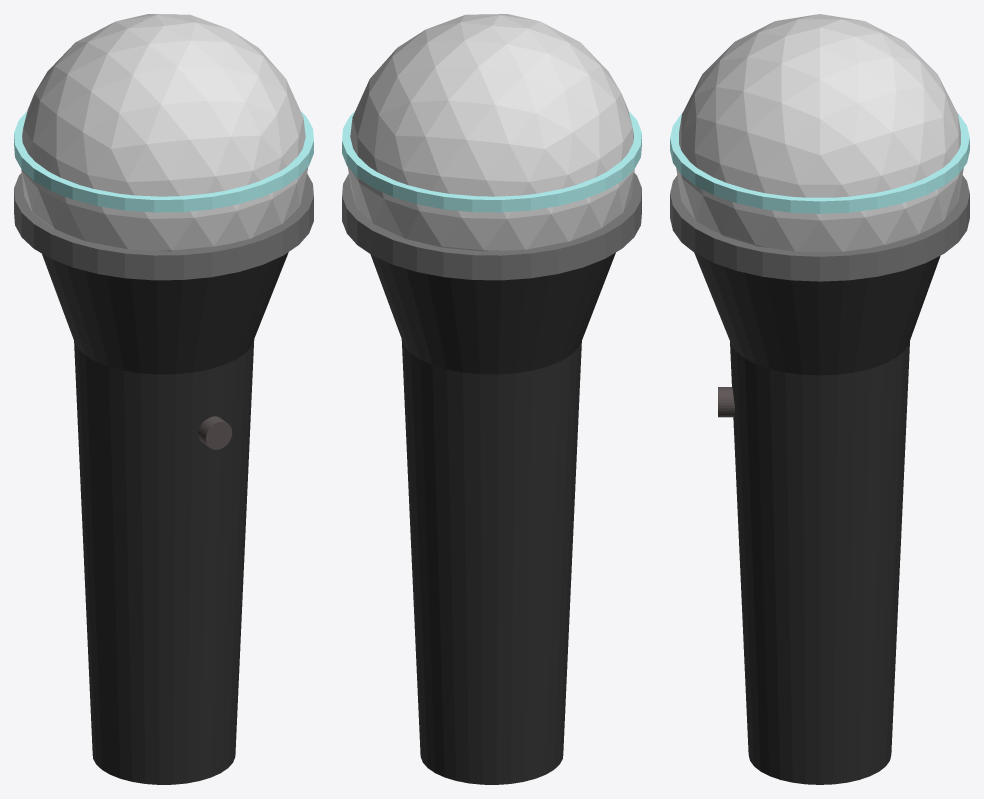
Rendered from Microphone.fbx.
The picture shows the model from 3 angles, left to right: view 1: azimuth 30°, elevation 25°; view 2: azimuth 150°, elevation 25°; view 3: azimuth 270°, elevation 25°; orthographic projection.
Visible parts, largest first — view 1: Cone, Icosphere, Cylinder.002, Cylinder.001, Cylinder; view 2: Cone, Icosphere, Cylinder.002, Cylinder.001; view 3: Cone, Icosphere, Cylinder.002, Cylinder.001.
Boxes of the visible parts, bbox=[...] form: Cone: bbox=[42, 252, 288, 784]; Icosphere: bbox=[21, 14, 308, 251]; Cylinder.002: bbox=[14, 173, 313, 280]; Cylinder.001: bbox=[14, 111, 313, 212]; Cylinder: bbox=[198, 416, 232, 449]; Cone: bbox=[370, 252, 615, 784]; Icosphere: bbox=[347, 14, 634, 251]; Cylinder.002: bbox=[342, 173, 641, 280]; Cylinder.001: bbox=[342, 111, 641, 212]; Cone: bbox=[694, 253, 940, 784]; Icosphere: bbox=[676, 14, 963, 251]; Cylinder.002: bbox=[670, 175, 969, 281]; Cylinder.001: bbox=[670, 113, 969, 213].
Size of the model in its own units: 423 by 1131 by 423.
